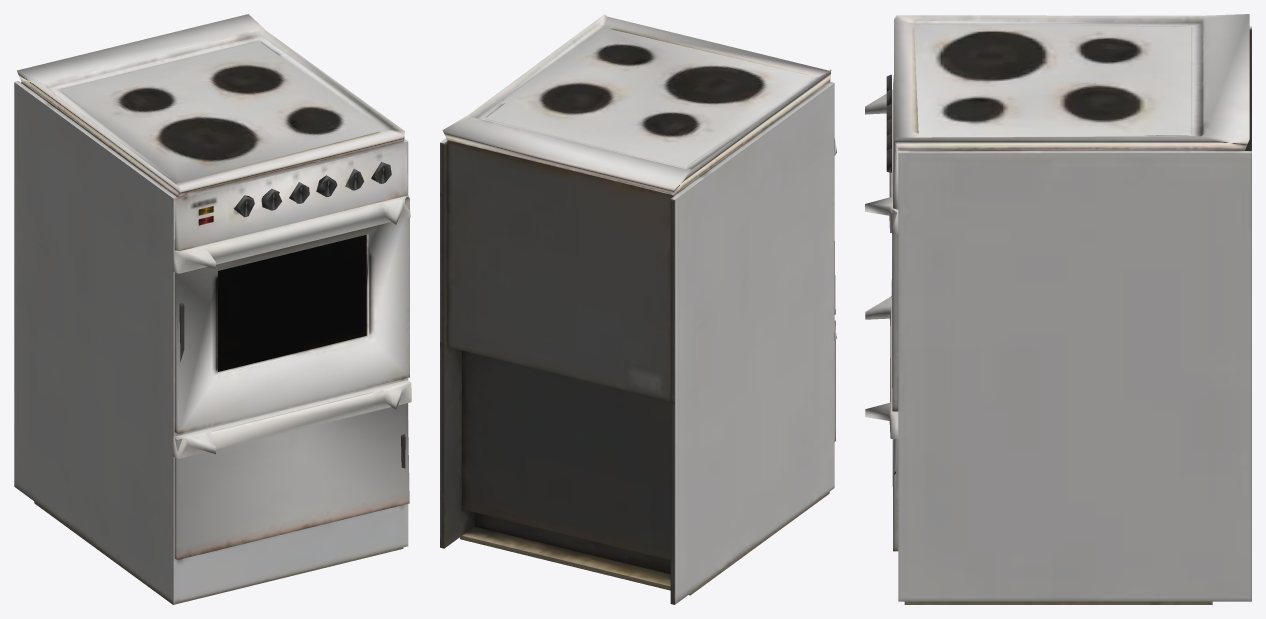
File: electric_stove.glb
3 views of the same model, side by side, from view 1: azimuth 30°, elevation 25°; view 2: azimuth 150°, elevation 25°; view 3: azimuth 270°, elevation 25° (orthographic). The views are drawn at different scales.
Parts seen in each view (by area): view 1: stovetop, door_top; view 2: stovetop; view 3: stovetop.
Part boxes in pixels (x1,y1,x2,y2): stovetop: [14, 14, 411, 604]; door_top: [218, 235, 366, 371]; stovetop: [440, 14, 836, 604]; stovetop: [865, 14, 1251, 604].
Size of the model in its own units: 0.5026 by 0.8578 by 0.6446.
Materials: 2 (2 with a texture image).
